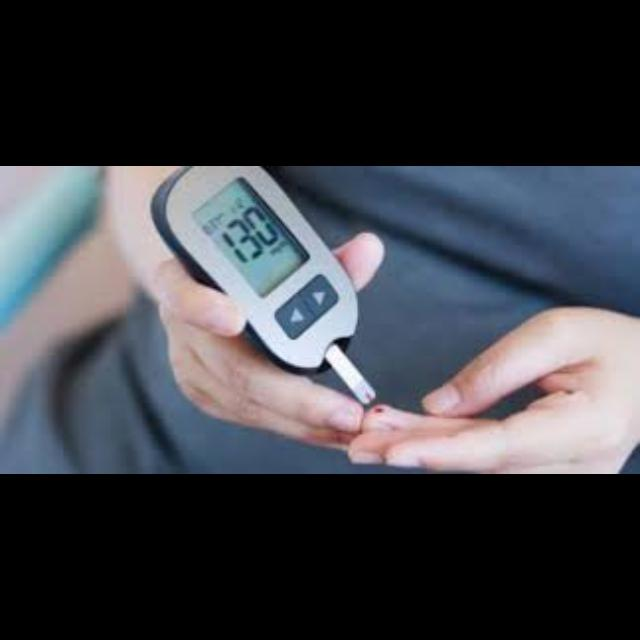Glucose-Meter: (151, 166, 374, 404)
